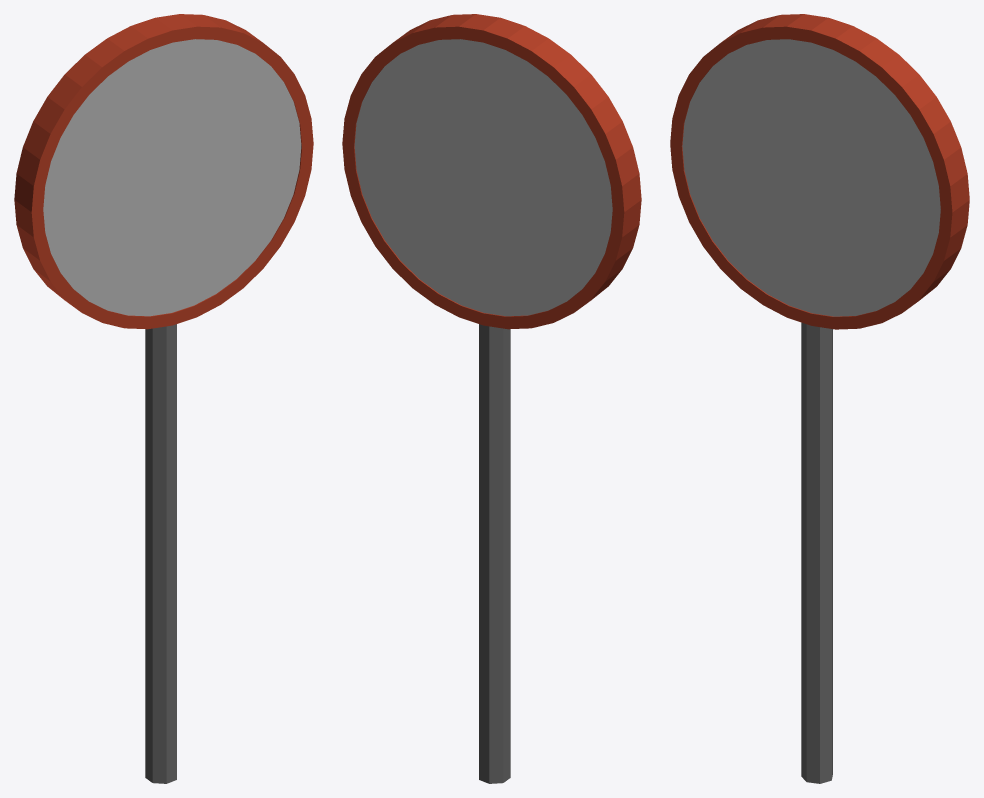
File: Schild III geschwindigkeit.fbx
3 renders of one model, left to right at view 1: azimuth 30°, elevation 25°; view 2: azimuth 150°, elevation 25°; view 3: azimuth 330°, elevation 25°, orthographic.
Parts seen in each view (by area): view 1: Zylinder_1, Zylinder; view 2: Zylinder_1, Zylinder; view 3: Zylinder_1, Zylinder.
Part boxes in pixels (x1,y1,x2,y2): Zylinder_1: (14, 14, 313, 329); Zylinder: (145, 324, 176, 783); Zylinder_1: (342, 14, 641, 329); Zylinder: (479, 324, 510, 783); Zylinder_1: (670, 14, 969, 329); Zylinder: (801, 322, 832, 783).
Size of the model in its own units: 100 by 255 by 10.66.
